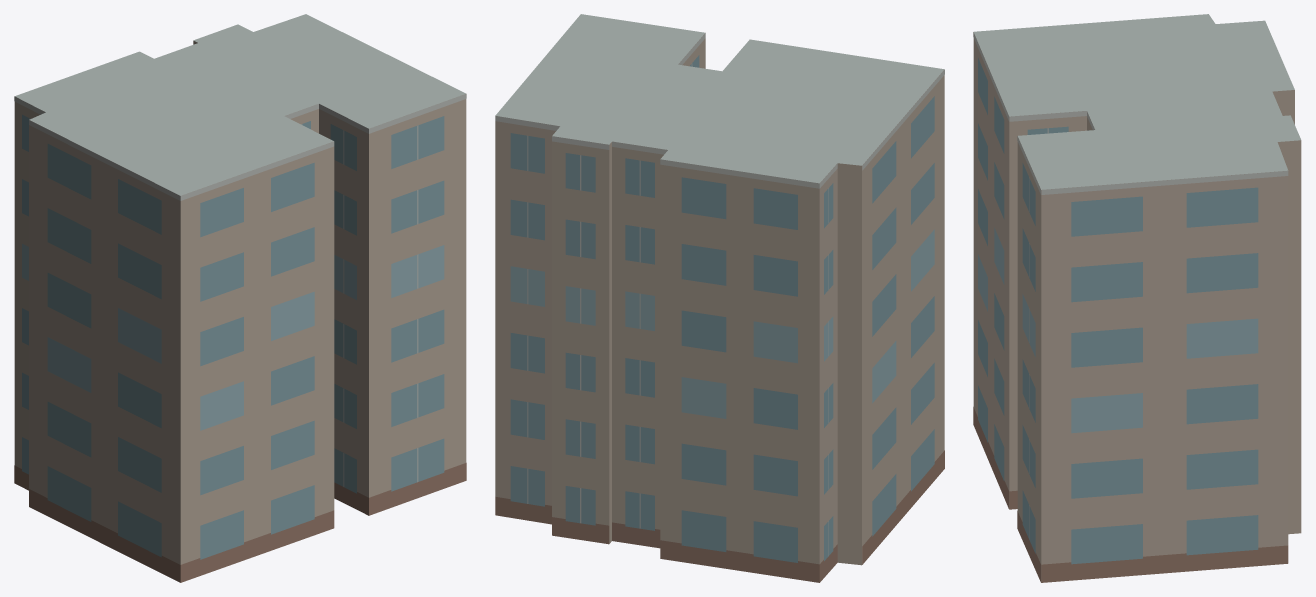
The model's file is survey-upis-33023672.glb.
3 renders of one model, left to right at view 1: azimuth 30°, elevation 25°; view 2: azimuth 150°, elevation 25°; view 3: azimuth 270°, elevation 25°, orthographic. The views are drawn at different scales.
Visible parts, largest first — view 1: survey-upis-33023672.tmp; view 2: survey-upis-33023672.tmp; view 3: survey-upis-33023672.tmp.
Part boxes in pixels (<box>): survey-upis-33023672.tmp: <box>14,14,466,582</box>; survey-upis-33023672.tmp: <box>495,14,944,582</box>; survey-upis-33023672.tmp: <box>973,14,1301,582</box>.
Size of the model in its own units: 17.57 by 18.3 by 13.85.
